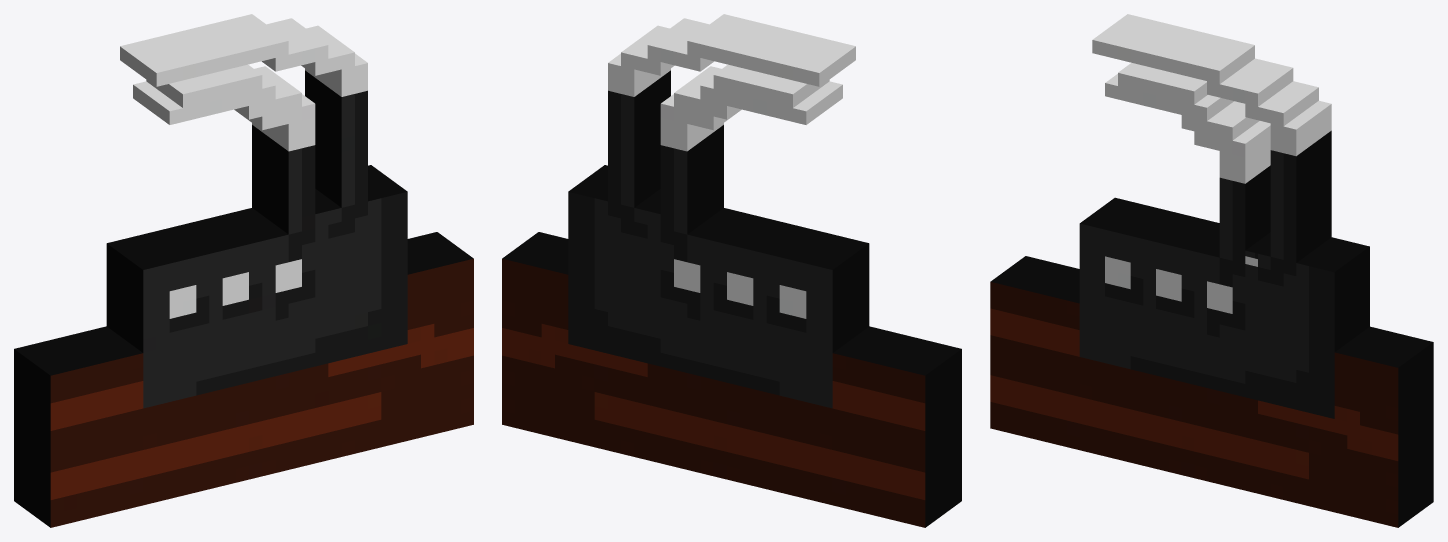
The picture shows the model from 3 angles, left to right: view 1: azimuth 30°, elevation 25°; view 2: azimuth 150°, elevation 25°; view 3: azimuth 330°, elevation 25°; orthographic projection. The views are drawn at different scales.
Visible parts, largest first — view 1: goefix; view 2: goefix; view 3: goefix.
Part boxes in pixels (x1,y1,x2,y2): goefix: [14, 14, 473, 527]; goefix: [502, 14, 961, 527]; goefix: [990, 14, 1433, 527].
Bounding box in the file's own units: 1 × 0.9687 × 0.15.
3 materials, 1 textured.
